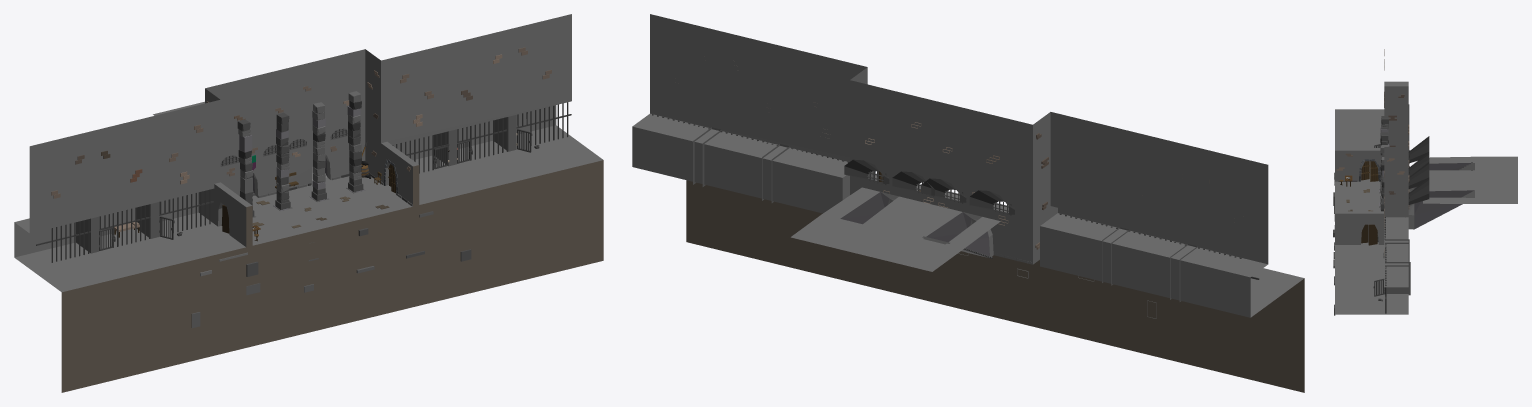
Rendered from SM_Prison.fbx.
3 views of the same model, side by side, from view 1: azimuth 30°, elevation 25°; view 2: azimuth 150°, elevation 25°; view 3: azimuth 270°, elevation 25° (orthographic). The views are drawn at different scales.
Visible parts, largest first — view 1: Wall, Grills, Columns; view 2: Wall; view 3: Wall, Columns, Door1, Grills, Door2.
Boxes of the visible parts, bbox=[...] form: Wall: bbox=[14, 14, 603, 392]; Grills: bbox=[36, 102, 571, 262]; Columns: bbox=[237, 91, 365, 217]; Wall: bbox=[632, 14, 1304, 392]; Wall: bbox=[1333, 49, 1517, 315]; Columns: bbox=[1379, 115, 1389, 211]; Door1: bbox=[1359, 159, 1380, 181]; Grills: bbox=[1373, 144, 1386, 313]; Door2: bbox=[1361, 224, 1378, 245].
Size of the model in its own units: 67.61 by 26.6 by 25.68.
